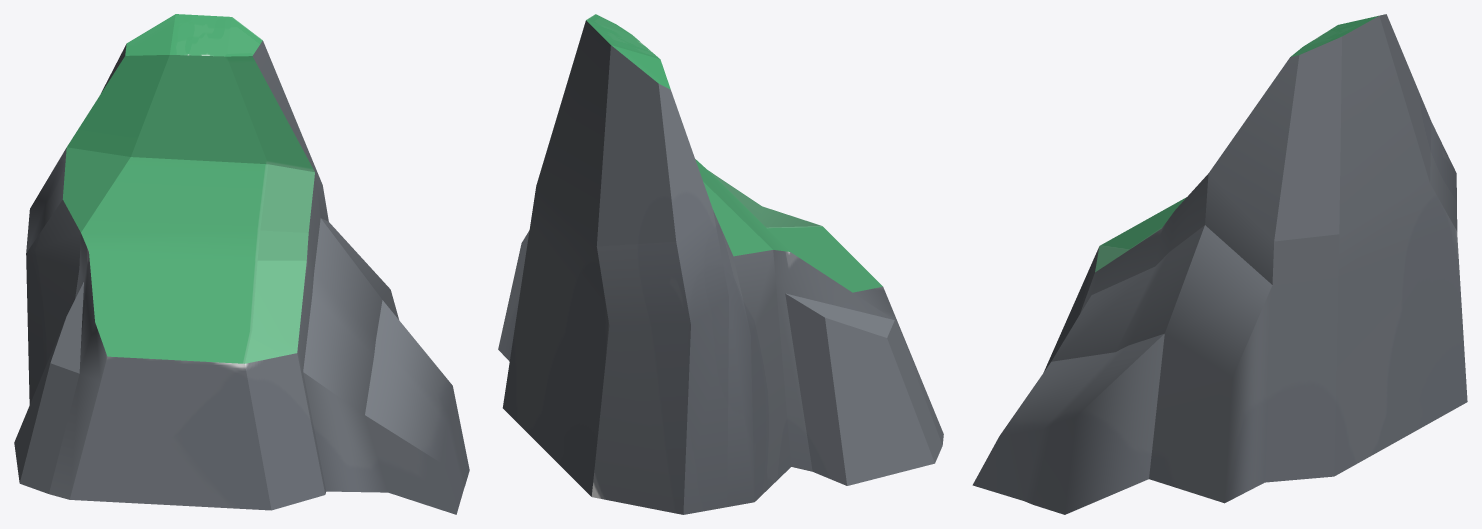
Rendered from new right cliff  1.fbx.
3 views of the same model, side by side, from view 1: azimuth 30°, elevation 25°; view 2: azimuth 150°, elevation 25°; view 3: azimuth 270°, elevation 25° (orthographic). The views are drawn at different scales.
Parts seen in each view (by area): view 1: pCube24.001; view 2: pCube24.001; view 3: pCube24.001.
Boxes of the visible parts, x1,y1,x2,y2 form: pCube24.001: (14, 14, 469, 514); pCube24.001: (498, 14, 943, 514); pCube24.001: (972, 14, 1467, 514).
Bounding box in the file's own units: 591 × 554 × 592.
